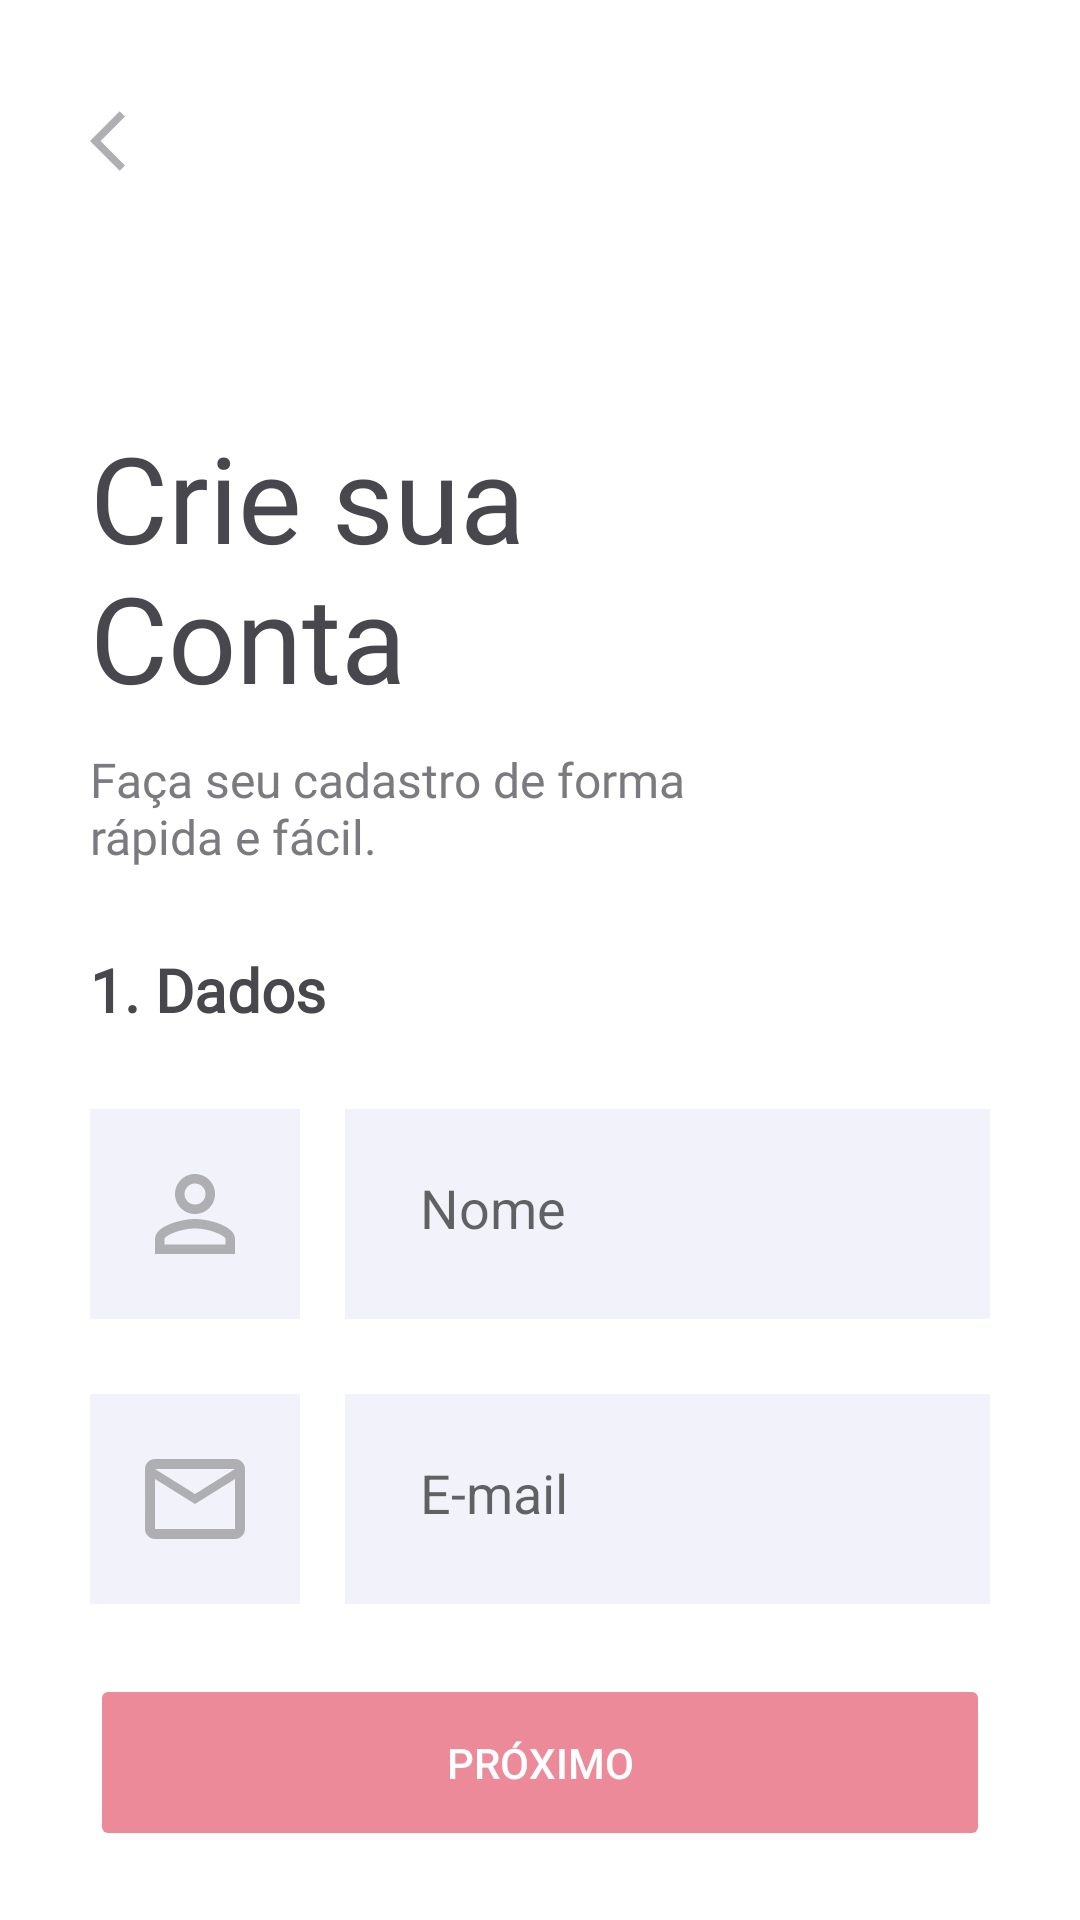

Screen size 1080x1920. Icon name, then its box in pixels as (x1, y1, x2, y2):
chevron left: (90, 111, 125, 171)
person: (155, 1174, 235, 1254)
